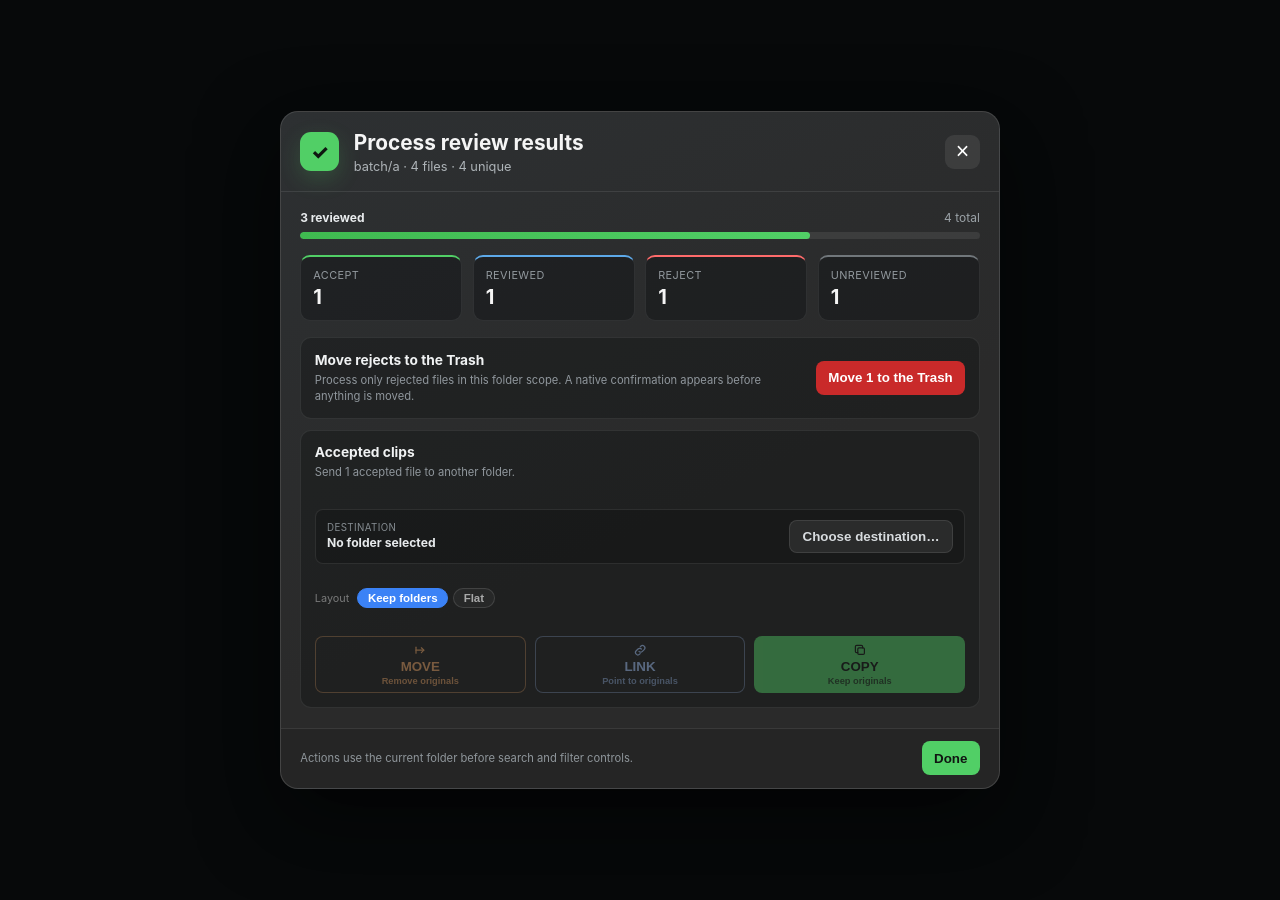
Test case: ProcessReviewResultsDialog › links clips to their originals and reports them as linked
Expected: the button with aria-label "Link accepted clips; choose a destination first" is disabled, [534,636,746,693]
What coordinates should you click on to do the following:
click the button "Choose destination…"
I would click on:
 (871, 536)
Its box is [789,520,953,553].
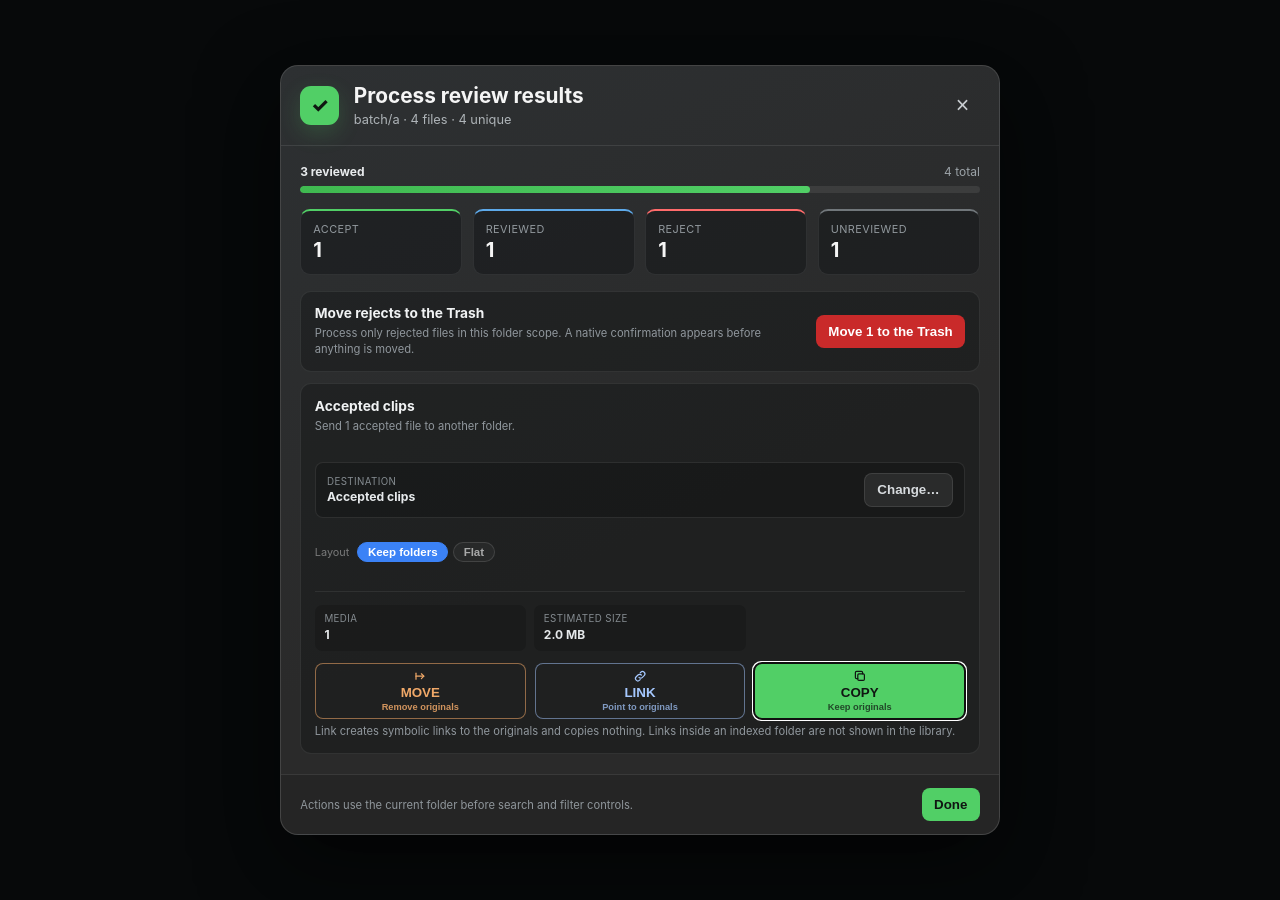
Expected: the text "Links inside an indexed folder are not shown" is shown, [315,724,955,738]
What coordinates should you click on to do the following:
click the button with aria-label "Link 1 file; point to originals"
I would click on:
 (640, 691)
Its box is [534,663,746,719].
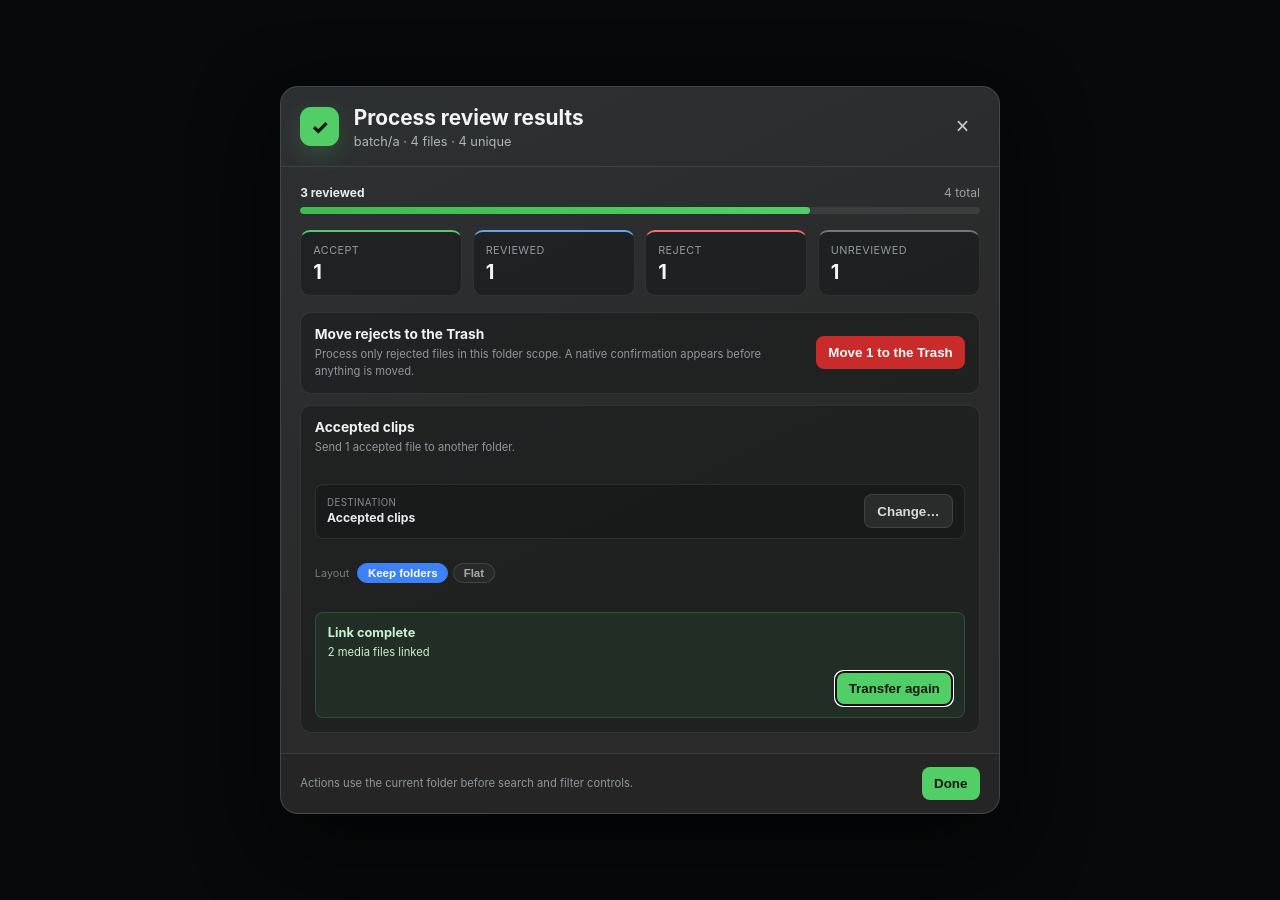
Expected: the message shows "Link complete", [328,625,415,640]
Expected: the text "2 media files linked" is shown, [328,645,430,659]
